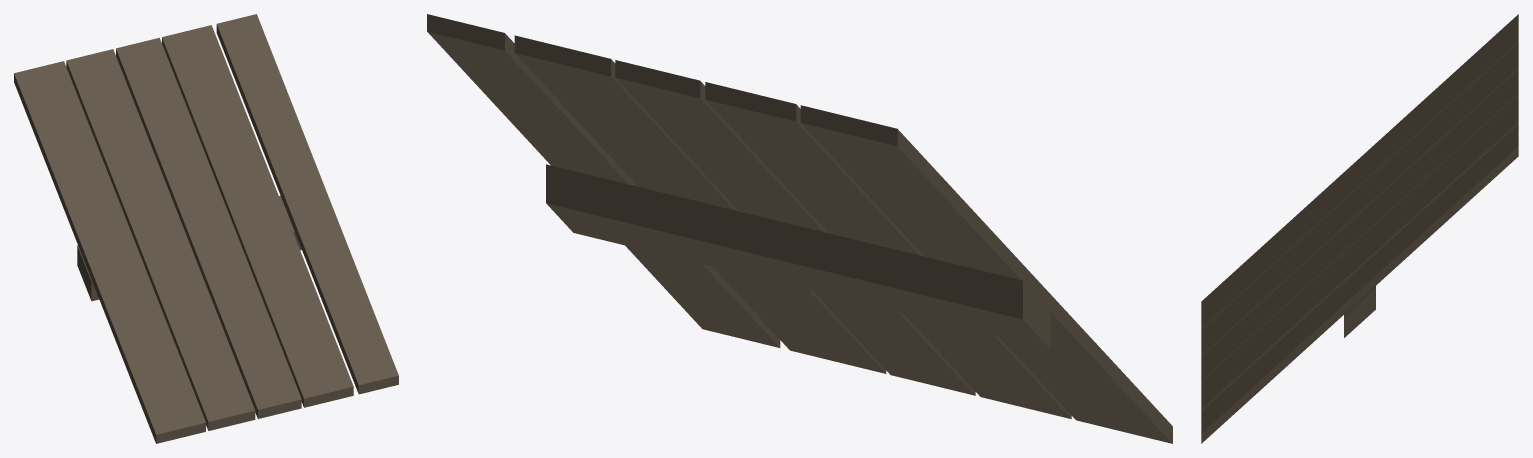
Rendered from dach_bretter_1x1.glb.
The picture shows the model from 3 angles, left to right: view 1: azimuth 30°, elevation 25°; view 2: azimuth 150°, elevation 25°; view 3: azimuth 270°, elevation 25°; orthographic projection. The views are drawn at different scales.
Visible parts, largest first — view 1: dach_bretter_1x1; view 2: dach_bretter_1x1; view 3: dach_bretter_1x1.
Boxes of the visible parts, x1,y1,x2,y2 form: dach_bretter_1x1: [14, 14, 398, 443]; dach_bretter_1x1: [427, 14, 1172, 443]; dach_bretter_1x1: [1201, 14, 1518, 443].
Bounding box in the file's own units: 1 × 1.04 × 1.
